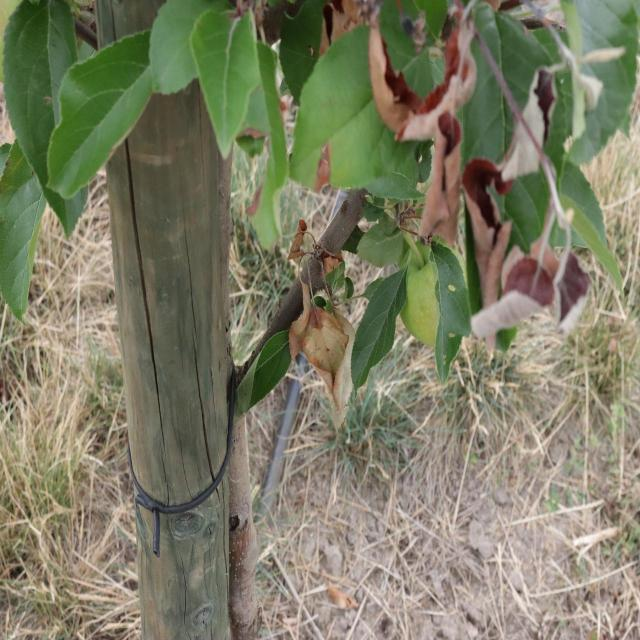-FireBlight-: (454, 144, 594, 333), (300, 268, 362, 425), (429, 0, 466, 250), (366, 22, 424, 146), (493, 62, 552, 180)
